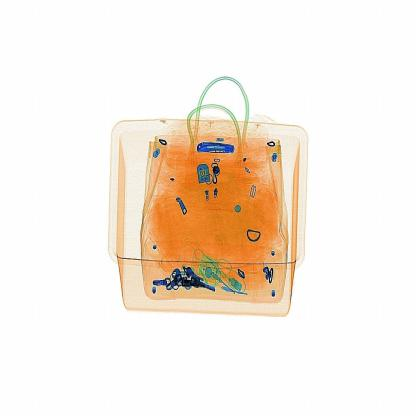knife: (192, 129, 243, 161)
